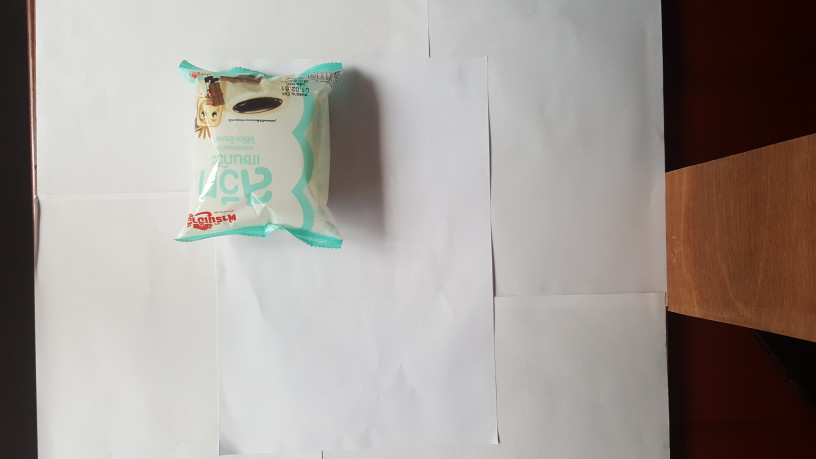farmhouse-sweetsandwich-chocolate: (173, 57, 350, 257)
